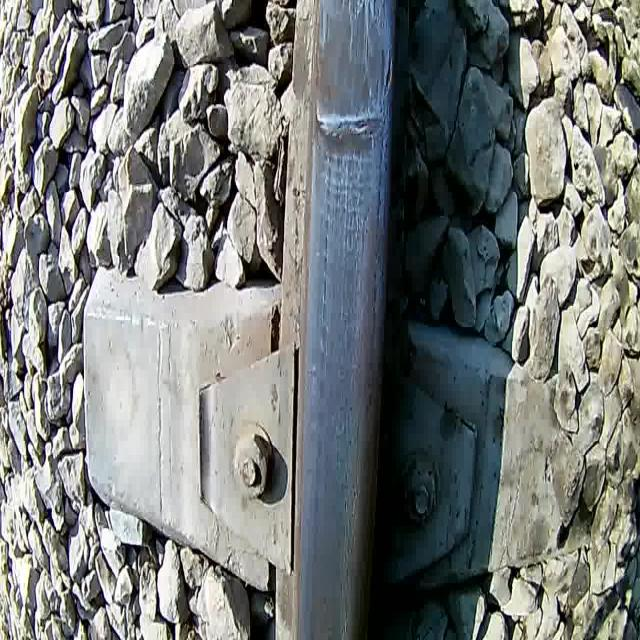Shellings: (316, 143, 337, 540), (366, 100, 393, 357)
Spallings: (382, 37, 396, 107)
Squats: (306, 0, 397, 165)
